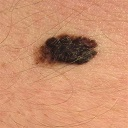Melanoma: (42, 36, 98, 63)
